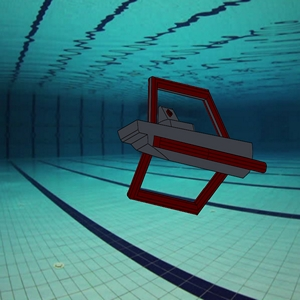submarine: (109, 66, 281, 225)
